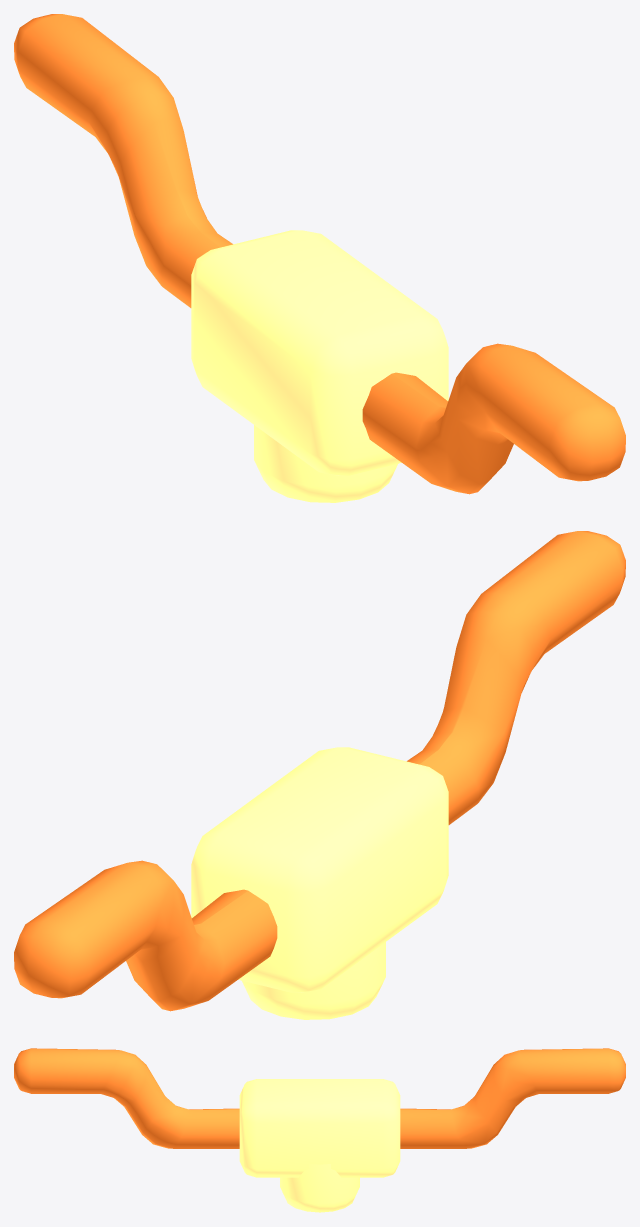
File: Yellow-Lv2-Archer-WP.fbx
The picture shows the model from 3 angles, top to bottom: view 1: azimuth 30°, elevation 25°; view 2: azimuth 150°, elevation 25°; view 3: azimuth 270°, elevation 25°; orthographic projection. The views are drawn at different scales.
Parts seen in each view (by area): view 1: Yellow-Lv2-Archer-WP; view 2: Yellow-Lv2-Archer-WP; view 3: Yellow-Lv2-Archer-WP.
Part boxes in pixels (x1=…): Yellow-Lv2-Archer-WP: x1=14, y1=14, x2=625, y2=502; Yellow-Lv2-Archer-WP: x1=14, y1=531, x2=625, y2=1019; Yellow-Lv2-Archer-WP: x1=14, y1=1048, x2=625, y2=1212.
Size of the model in its own units: 0.1419 by 0.2696 by 1.
